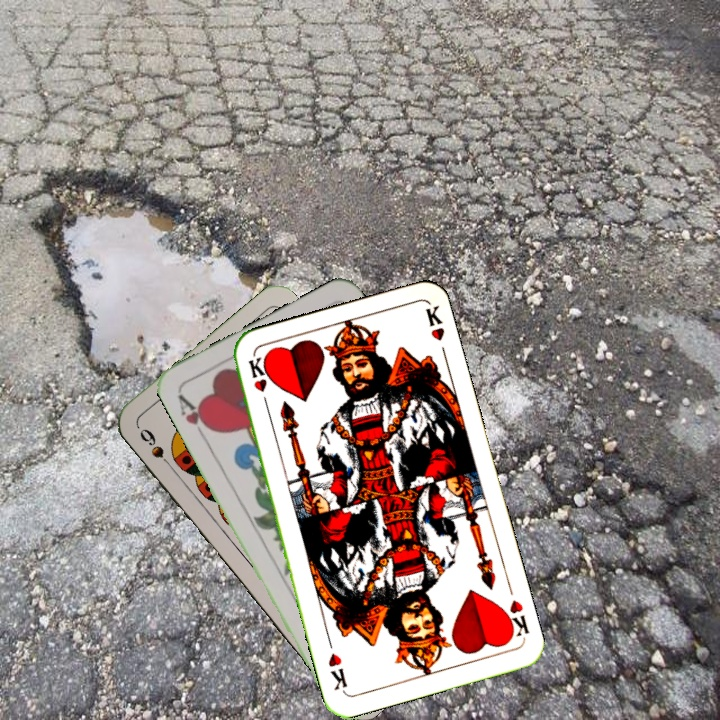HA: (174, 390, 216, 444)
HK: (244, 353, 272, 412), (498, 596, 532, 643)
S9: (135, 424, 177, 473)
